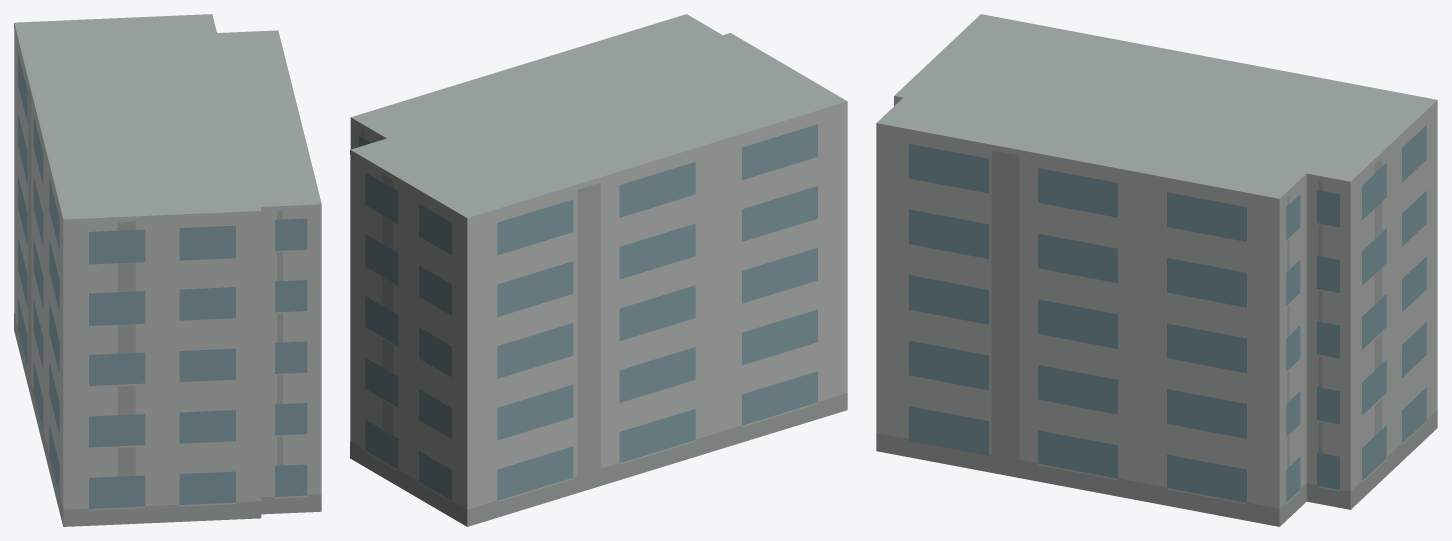
The model's file is survey-upis-32582653.glb.
3 views of the same model, side by side, from view 1: azimuth 30°, elevation 25°; view 2: azimuth 150°, elevation 25°; view 3: azimuth 270°, elevation 25° (orthographic). The views are drawn at different scales.
Visible parts, largest first — view 1: survey-upis-32582653.tmp; view 2: survey-upis-32582653.tmp; view 3: survey-upis-32582653.tmp.
Part boxes in pixels (x1,y1,x2,y2): survey-upis-32582653.tmp: (14,14,321,526); survey-upis-32582653.tmp: (350,14,847,526); survey-upis-32582653.tmp: (876,14,1437,526).
Size of the model in its own units: 17.29 by 14.3 by 22.18.
